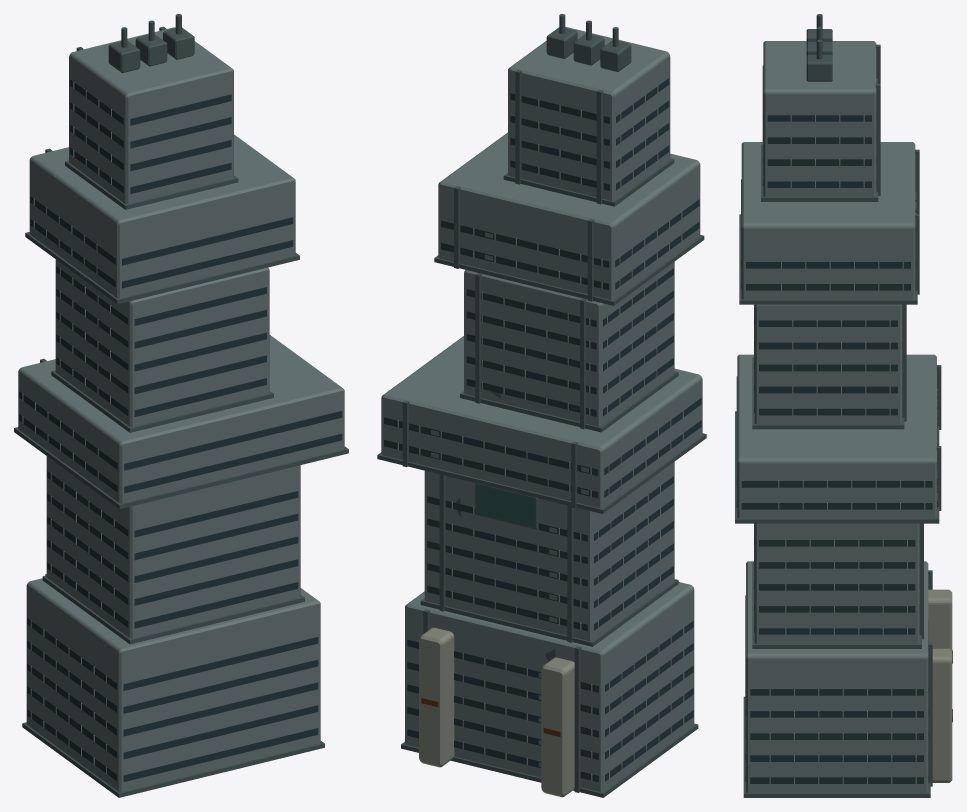
The model's file is megablock_civic.obj.
The picture shows the model from 3 angles, left to right: view 1: azimuth 30°, elevation 25°; view 2: azimuth 150°, elevation 25°; view 3: azimuth 270°, elevation 25°; orthographic projection. The views are drawn at different scales.
Visible parts, largest first — view 1: structural_mass, recessed_front, recessed_side, tier_lip, rooftop_equipment, window_separators; view 2: structural_mass, recessed_front, recessed_side, podium_buttress, tier_lip, vertical_service_spines, window_separators, rooftop_equipment, runtime_billboard, pale_window; view 3: structural_mass, recessed_side, tier_lip, podium_buttress, vertical_service_spines, window_separators, recessed_front, rooftop_equipment.
Part boxes in pixels (box(x1,y1,x2,y2)): structural_mass: box(18, 27, 344, 791); recessed_front: box(122, 94, 342, 781); recessed_side: box(19, 79, 128, 781); tier_lip: box(14, 160, 348, 797); rooftop_equipment: box(108, 27, 194, 72); window_separators: box(22, 81, 114, 774); structural_mass: box(381, 27, 702, 792); recessed_front: box(384, 93, 609, 782); recessed_side: box(594, 78, 701, 781); podium_buttress: box(419, 627, 574, 797); tier_lip: box(377, 158, 706, 797); vertical_service_spines: box(402, 70, 603, 792); window_separators: box(397, 86, 684, 780); rooftop_equipment: box(546, 27, 631, 71); runtime_billboard: box(477, 485, 534, 527); pale_window: box(431, 232, 588, 767); structural_mass: box(737, 41, 936, 792); recessed_side: box(741, 115, 932, 783); tier_lip: box(735, 144, 939, 797); podium_buttress: box(928, 589, 952, 782); vertical_service_spines: box(875, 44, 941, 786); window_separators: box(769, 79, 937, 784); recessed_front: box(736, 66, 937, 781); rooftop_equipment: box(806, 29, 832, 81).
Size of the model in its own units: 29.5 by 89.7 by 25.08.
